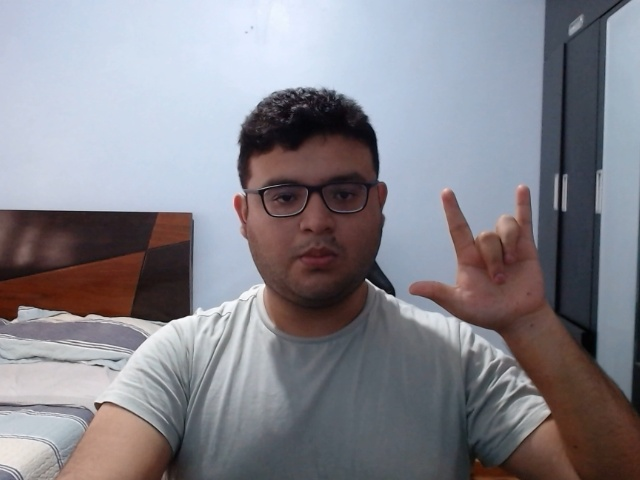I love you: (402, 180, 562, 334)
